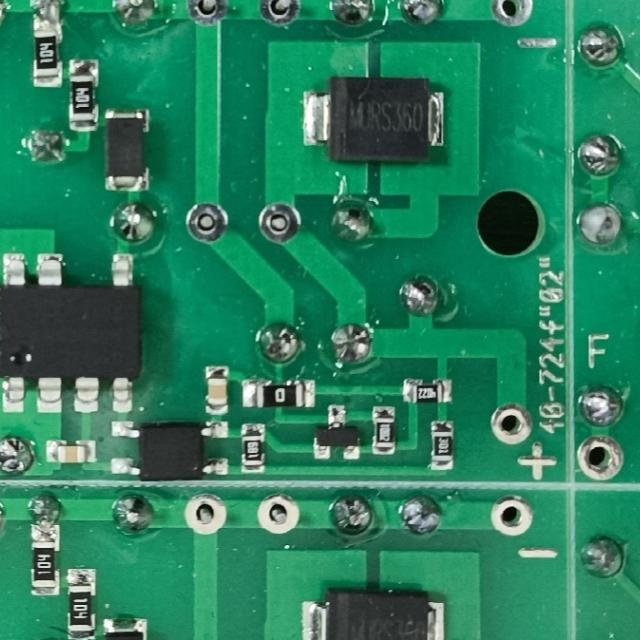chip-capacitor: (203, 364, 229, 416), (43, 438, 97, 463)
chip-resistor: (64, 565, 97, 640), (28, 522, 60, 598), (239, 378, 317, 409), (66, 58, 98, 133), (32, 20, 63, 88), (239, 420, 267, 475), (399, 376, 454, 403), (428, 417, 455, 471), (371, 403, 396, 457)
diode: (299, 75, 445, 164), (298, 586, 446, 640), (101, 106, 151, 192)
ic: (0, 251, 142, 415), (108, 418, 231, 481)
transistor: (310, 402, 362, 461)
